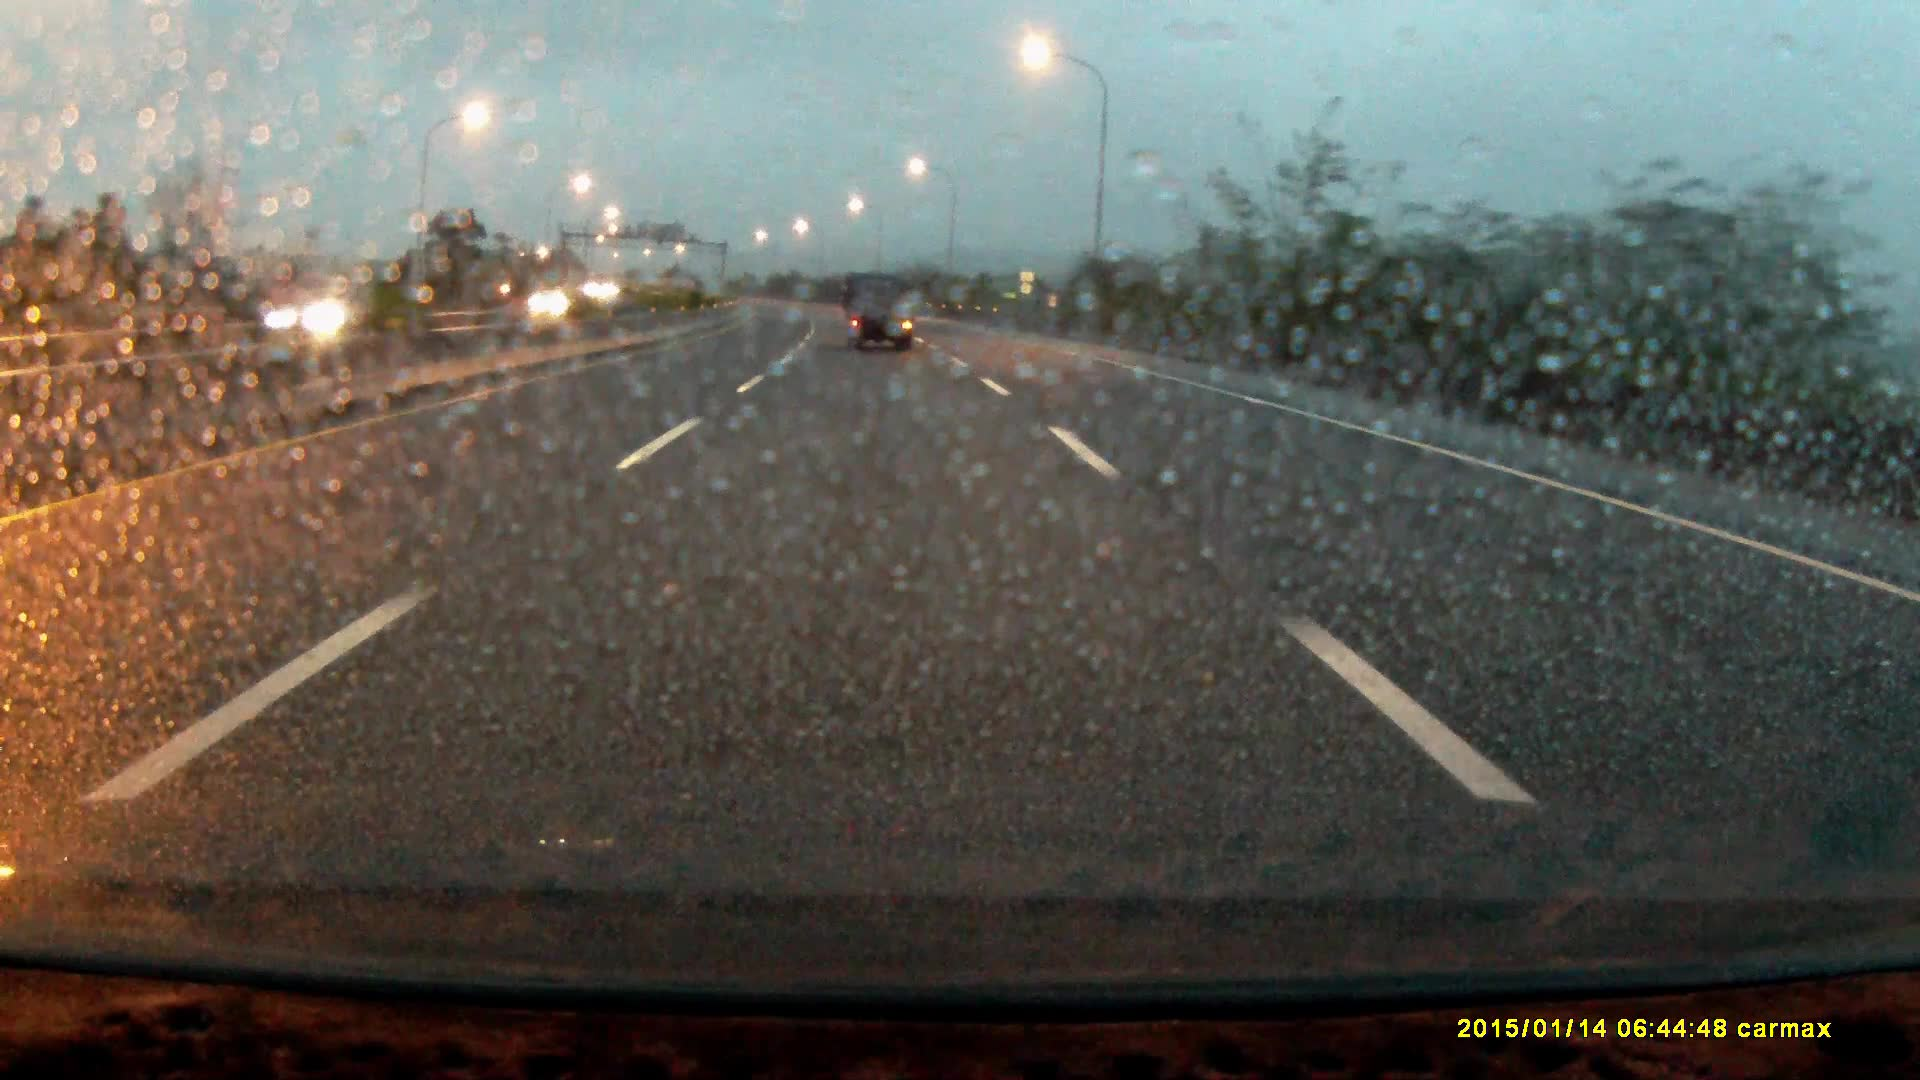vehicle: (256, 289, 389, 343), (843, 274, 916, 352)
